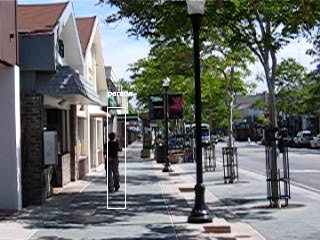person: (103, 132, 122, 193), (102, 132, 121, 193), (104, 132, 123, 193), (103, 131, 122, 192), (103, 133, 122, 194)
target_negative: (249, 59, 291, 173), (1, 198, 121, 211), (15, 78, 22, 202), (93, 88, 189, 94), (131, 218, 200, 221)
